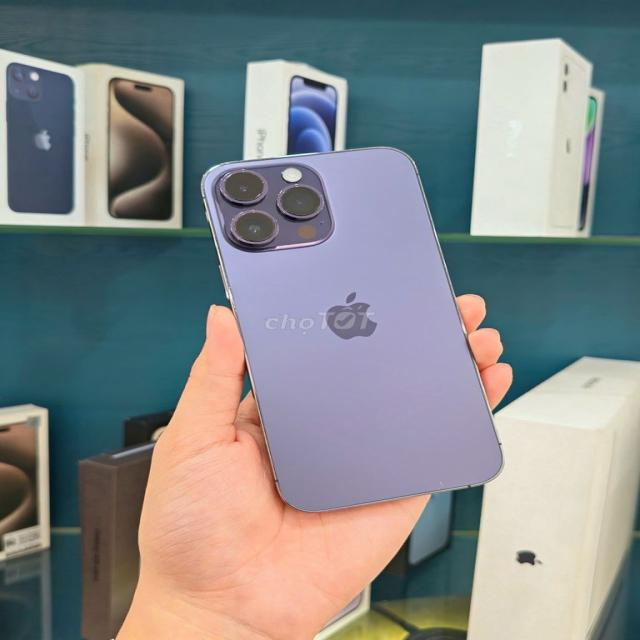gen_14: (196, 138, 519, 514)
